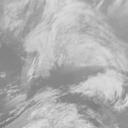cyclone: (26, 34, 96, 102)
